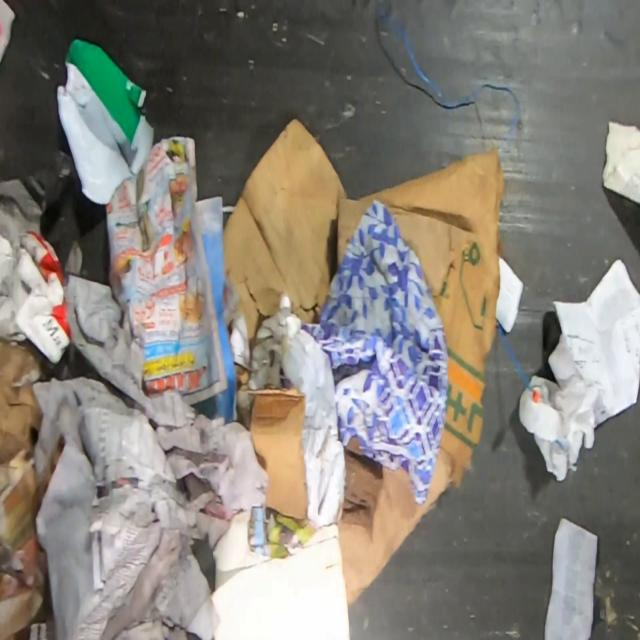cardboard: (219, 115, 505, 606), (236, 384, 307, 521), (0, 340, 46, 474)
rigid_plastic: (56, 37, 155, 205)
